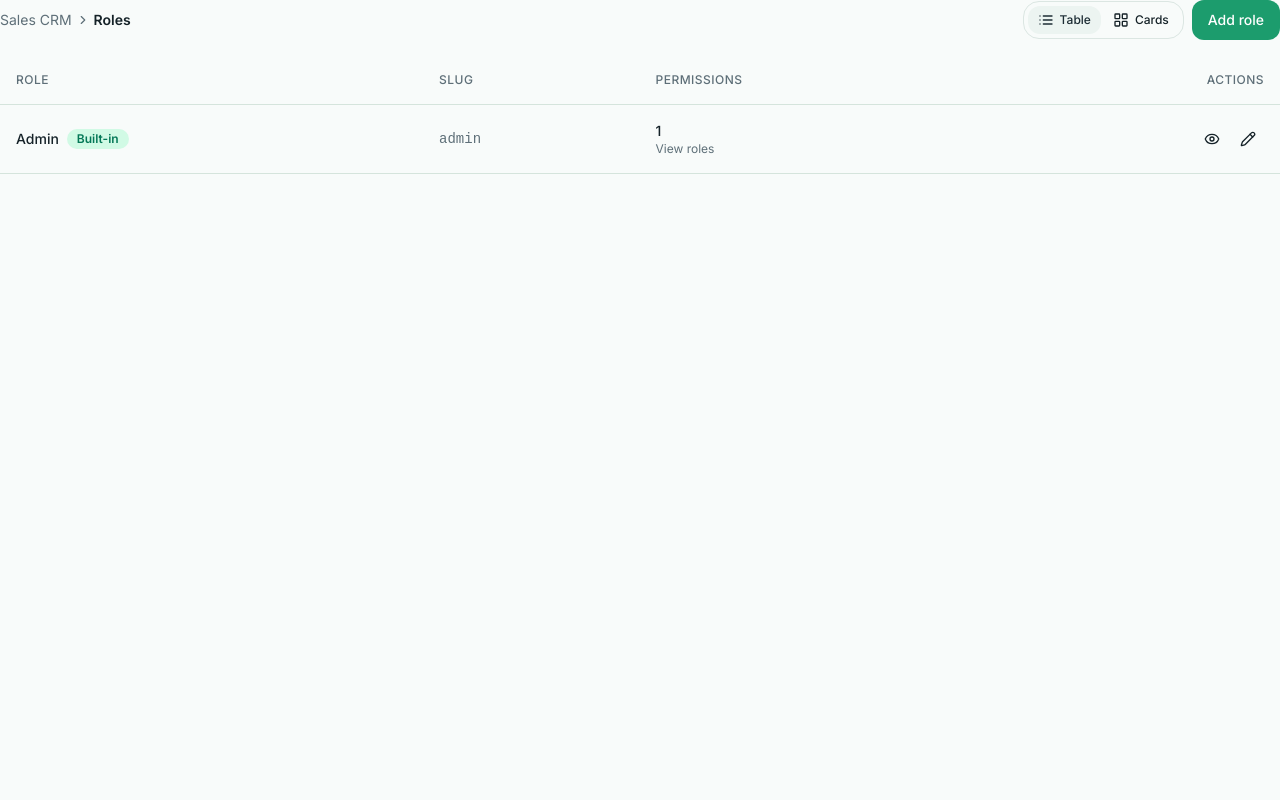
Test case: CRM modules › shows permission descriptions when viewing a role
Step 1. Click the button named "View" → click(1212, 138), box [1196,122,1228,154]
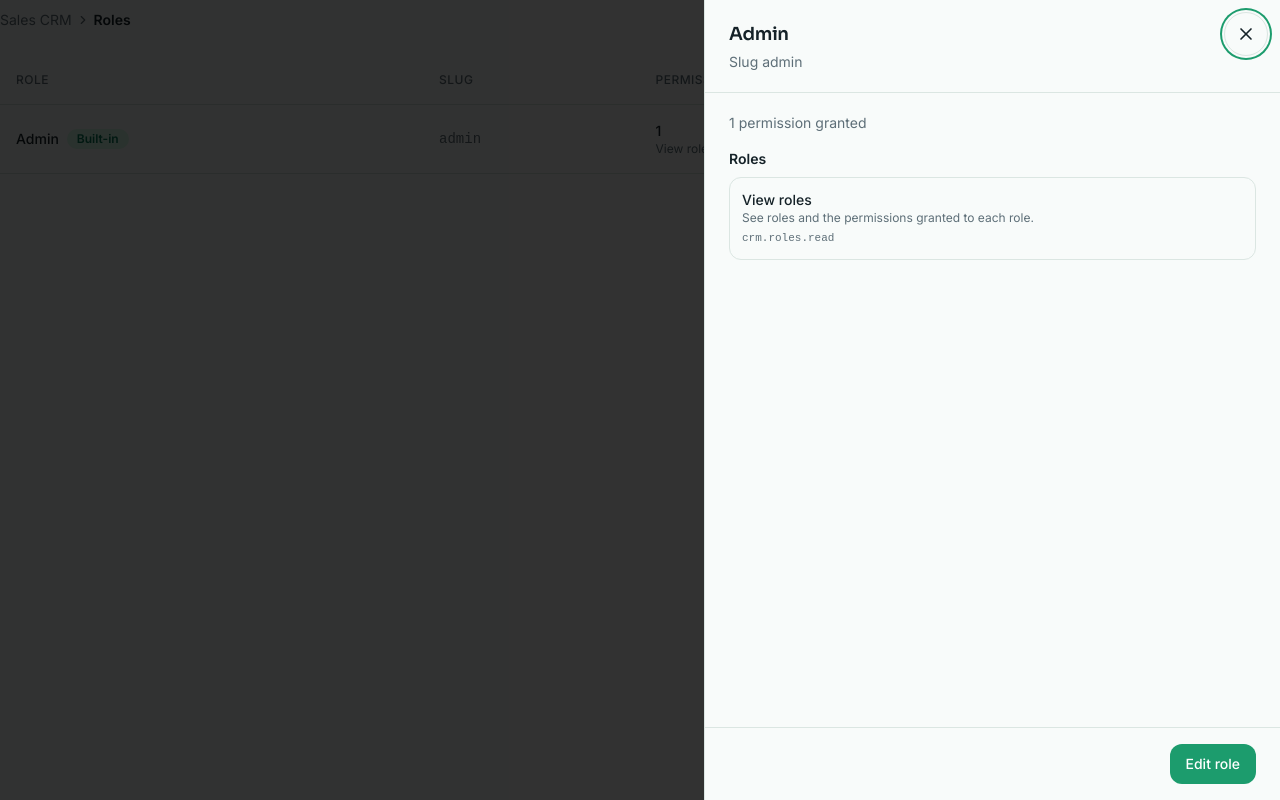
Expected: the text "See roles and the permissions granted to each role." is shown, [742,210,1034,225]
Expected: the text "crm.roles.read" is shown, [742,232,834,244]
